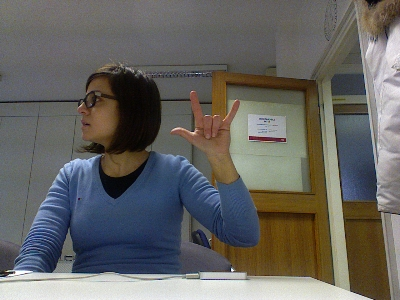我爱你: (168, 88, 241, 156)
